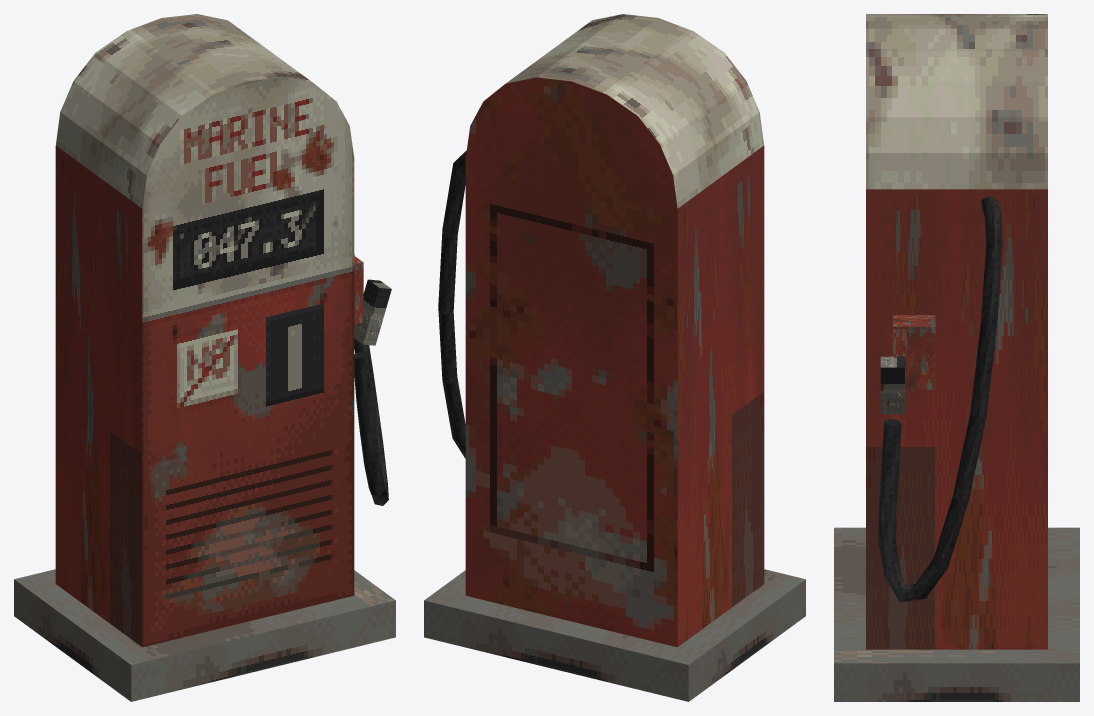
File: fuel_pump_marina.glb
3 views of the same model, side by side, from view 1: azimuth 30°, elevation 25°; view 2: azimuth 150°, elevation 25°; view 3: azimuth 270°, elevation 25° (orthographic). The views are drawn at different scales.
Visible parts, largest first — view 1: fuel_pump_marina; view 2: fuel_pump_marina; view 3: fuel_pump_marina.
Part boxes in pixels (x1,y1,x2,y2): fuel_pump_marina: (14,14,395,701); fuel_pump_marina: (424,14,805,701); fuel_pump_marina: (834,14,1079,701).
Bounding box in the file's own units: 0.687 × 1.25 × 0.46.
Materials: 1 (1 with a texture image).
